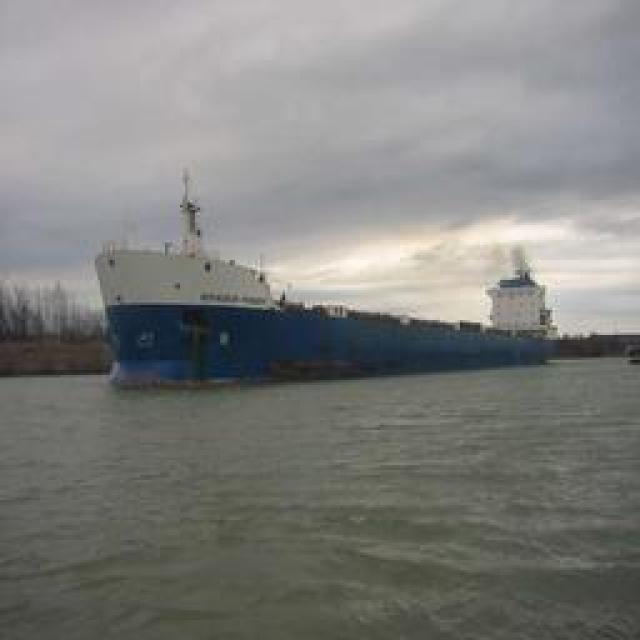CIV_Ship: (100, 168, 558, 382)
